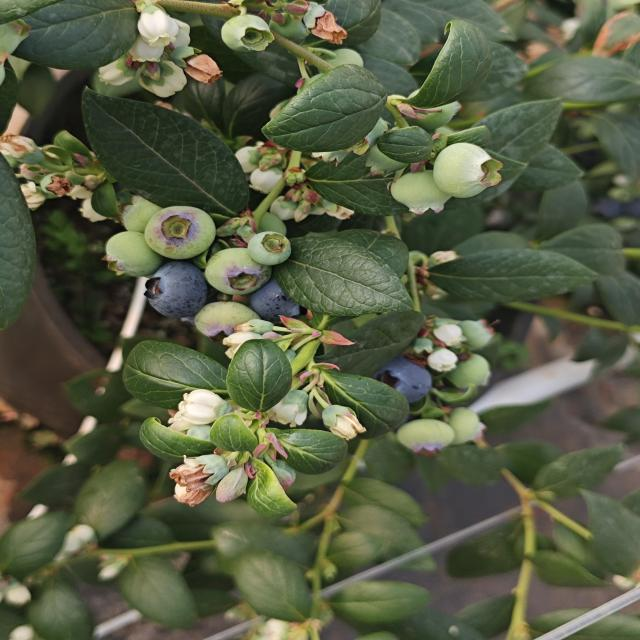ripe: (140, 260, 210, 320), (380, 363, 438, 402), (250, 287, 299, 317)
